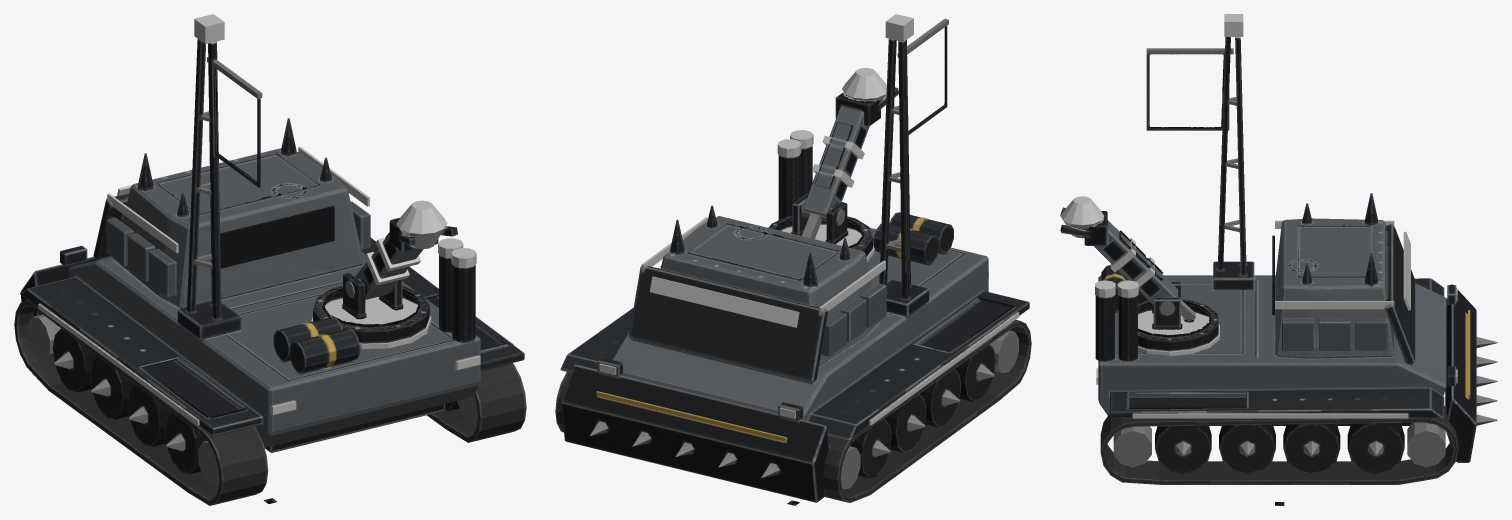
File: chs_warlord.fbx
The picture shows the model from 3 angles, left to right: view 1: azimuth 30°, elevation 25°; view 2: azimuth 150°, elevation 25°; view 3: azimuth 270°, elevation 25°; orthographic projection. The views are drawn at different scales.
Parts seen in each view (by area): view 1: base_bar, trackL_bar, nano_bar, base_glow_running_bar, trackR_bar, nano_glow_power_bar; view 2: base_bar, trackL_bar, nano_bar, base_glow_running_bar, nano_glow_power_bar; view 3: base_bar, trackR_bar, nano_bar, base_glow_running_bar, nano_glow_power_bar.
Part boxes in pixels (x1,y1,x2,y2): base_bar: [20, 39, 524, 452]; trackL_bar: [14, 300, 268, 505]; nano_bar: [313, 218, 457, 343]; base_glow_running_bar: [38, 14, 513, 425]; trackR_bar: [427, 363, 526, 442]; nano_glow_power_bar: [311, 200, 447, 349]; base_bar: [560, 19, 1029, 502]; trackL_bar: [823, 320, 1031, 502]; nano_bar: [768, 87, 898, 257]; base_glow_running_bar: [641, 14, 1019, 425]; nano_glow_power_bar: [782, 67, 886, 262]; base_bar: [1095, 37, 1497, 462]; trackR_bar: [1100, 405, 1458, 484]; nano_bar: [1060, 207, 1218, 351]; base_glow_running_bar: [1095, 14, 1410, 418]; nano_glow_power_bar: [1060, 196, 1219, 356].
Size of the model in its own units: 694 by 1080 by 953.
2 materials, 2 textured.
